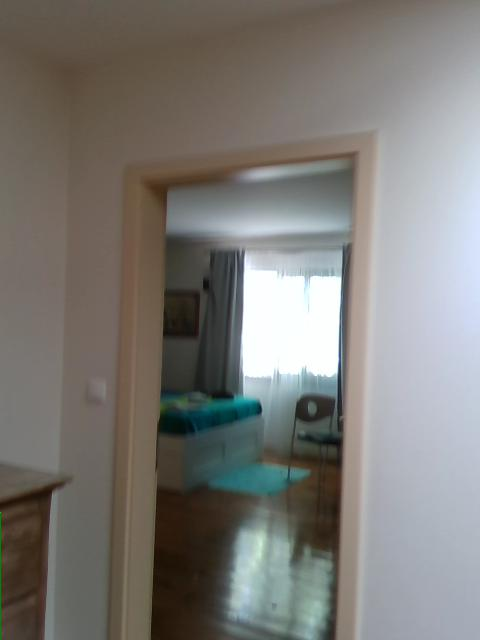open_door: (108, 126, 369, 639)
